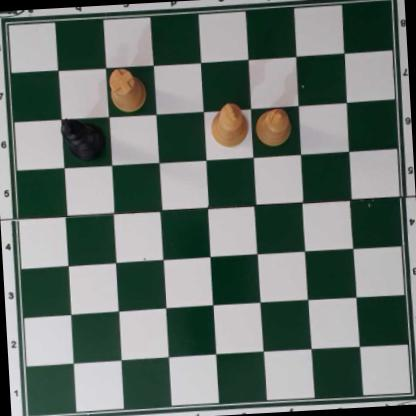black-king: (60, 115, 108, 163)
white-bishop: (255, 106, 291, 147)
white-king: (209, 101, 250, 149)
white-rook: (108, 66, 147, 113)
